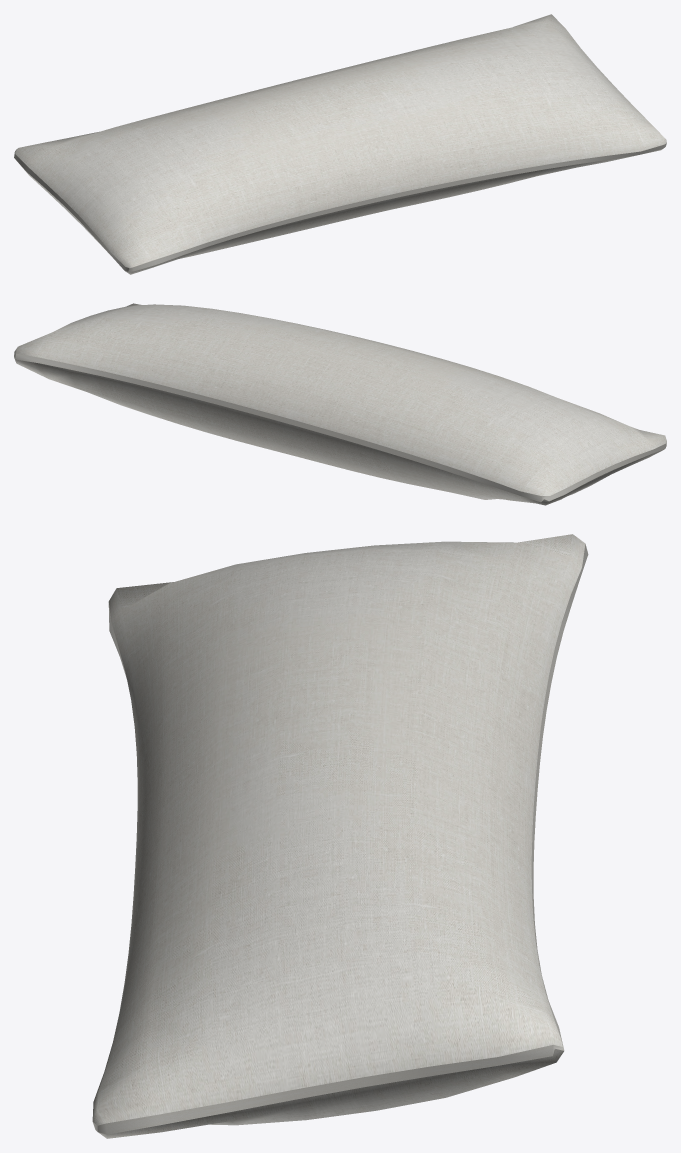
The model's file is Pillow.FBX.
The picture shows the model from 3 angles, top to bottom: view 1: azimuth 30°, elevation 25°; view 2: azimuth 150°, elevation 25°; view 3: azimuth 270°, elevation 25°; orthographic projection. The views are drawn at different scales.
Parts seen in each view (by area): view 1: pillow; view 2: pillow; view 3: pillow.
Boxes of the visible parts, x1,y1,x2,y2 form: pillow: (14, 14, 666, 274); pillow: (14, 303, 666, 505); pillow: (92, 534, 588, 1138).
Size of the model in its own units: 68.96 by 13.29 by 27.5.
1 material, 1 textured.
